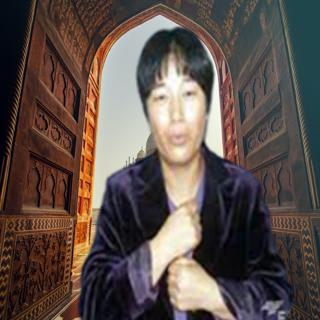CAREFUL: (159, 197, 215, 320)
